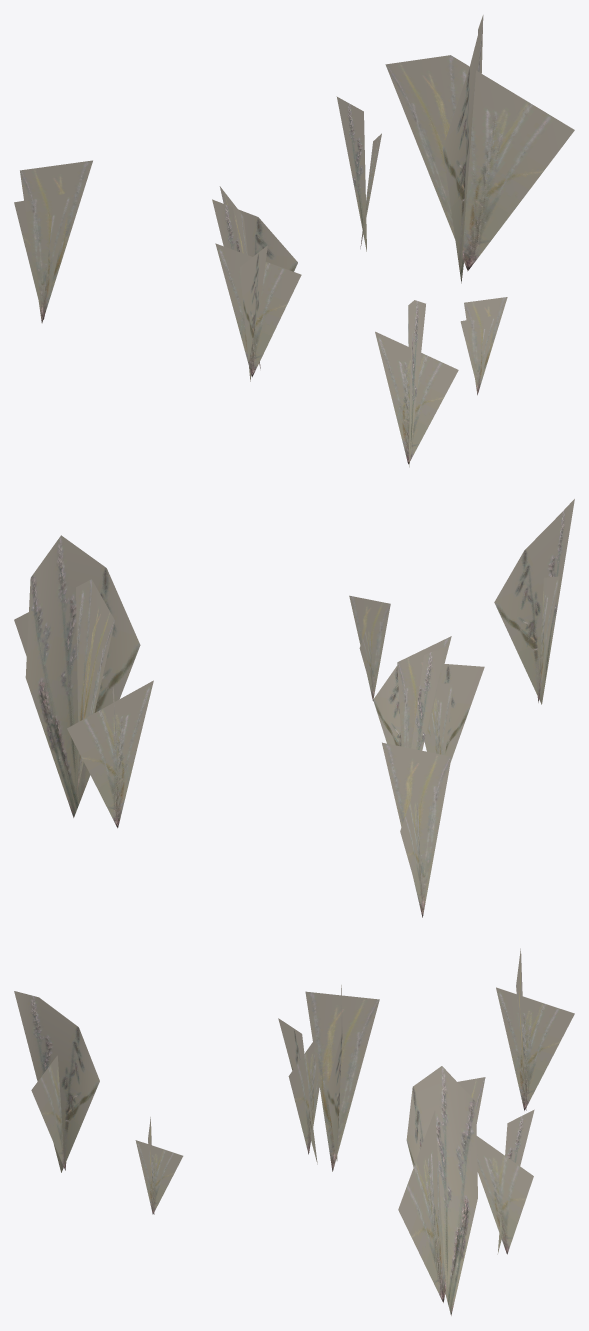
Rendered from proc_drygrassfronds01.FBX.
3 renders of one model, top to bottom at view 1: azimuth 30°, elevation 25°; view 2: azimuth 150°, elevation 25°; view 3: azimuth 270°, elevation 25°, orthographic. The views are drawn at different scales.
Visible parts, largest first — view 1: proc_drygrassfronds01; view 2: proc_drygrassfronds01; view 3: proc_drygrassfronds01.
Part boxes in pixels (x1,y1,x2,y2): proc_drygrassfronds01: [14, 15, 574, 467]; proc_drygrassfronds01: [14, 499, 574, 917]; proc_drygrassfronds01: [14, 948, 574, 1315].
Size of the model in its own units: 2.43 by 2.5 by 1.27.
1 material, 1 textured.
